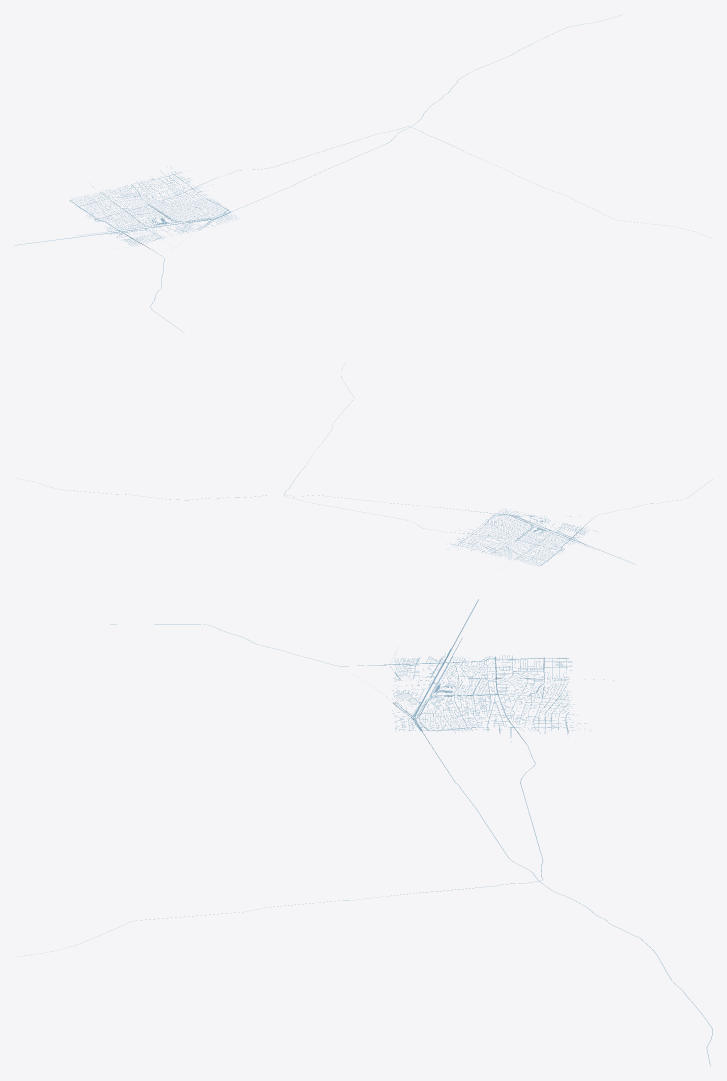
The model's file is roads.glb.
3 renders of one model, top to bottom at view 1: azimuth 30°, elevation 25°; view 2: azimuth 150°, elevation 25°; view 3: azimuth 270°, elevation 25°, orthographic. The views are drawn at different scales.
Visible parts, largest first — view 1: roads; view 2: roads; view 3: roads.
Part boxes in pixels (x1,y1,x2,y2): roads: (14, 14, 709, 332); roads: (18, 364, 712, 565); roads: (17, 599, 712, 1066).
Size of the model in its own units: 20996 by 33.32 by 13250.
